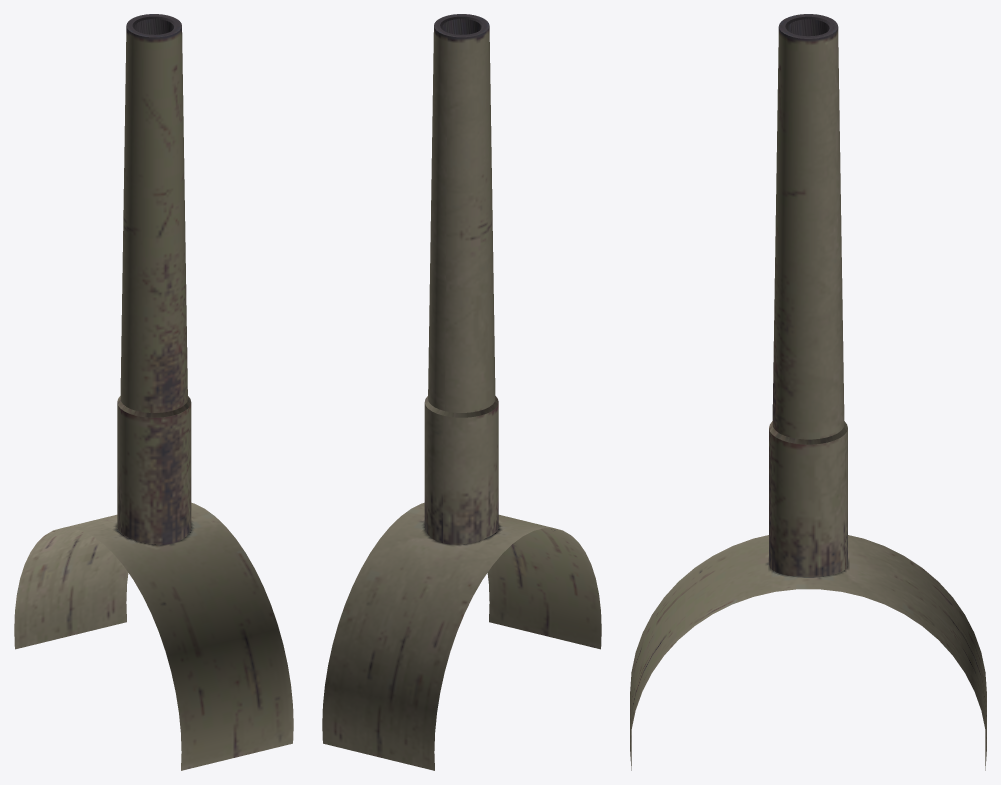
The model's file is Gun_02.glb.
3 renders of one model, left to right at view 1: azimuth 30°, elevation 25°; view 2: azimuth 150°, elevation 25°; view 3: azimuth 270°, elevation 25°, orthographic. The views are drawn at different scales.
Visible parts, largest first — view 1: set_0_group_0; view 2: set_0_group_0; view 3: set_0_group_0.
Part boxes in pixels (box(x1,y1,x2,y2)): set_0_group_0: box(14, 14, 293, 770); set_0_group_0: box(322, 14, 601, 770); set_0_group_0: box(630, 14, 986, 770).
Bounding box in the file's own units: 0.4996 × 2.85 × 1.29.
1 material, 1 textured.
